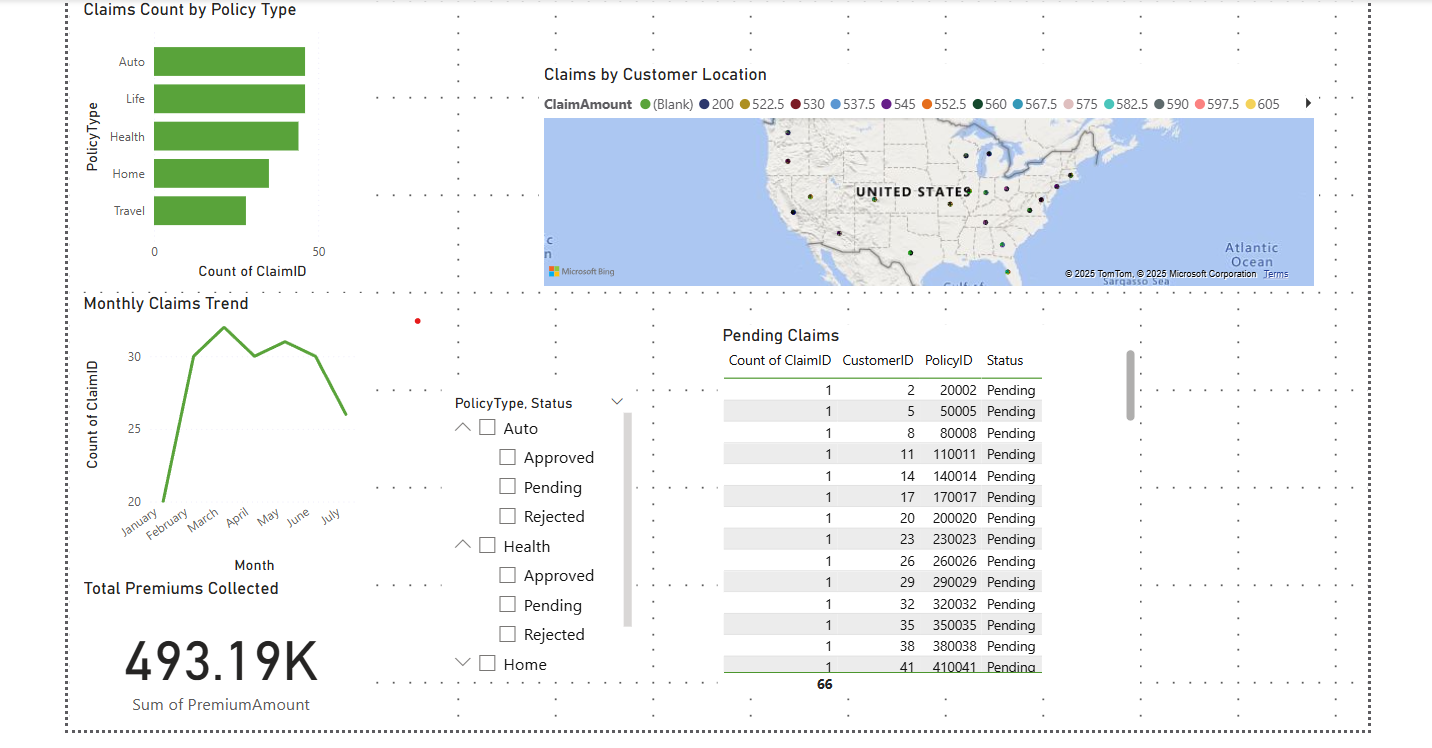

The page's visual inventory and layout, read from the dashboard file:
{"tool":"powerbi","page":{"name":"Page 1","canvas":[1280,720],"ordinal":0},"visuals":[{"type":"clusteredBarChart","title":"Claims Count by Policy Type","fields":{"Category":["Policies.PolicyType"],"Y":["CountNonNull(Claims.ClaimID)"]},"box":[10,0,280,280],"z":0},{"type":"lineChart","title":"Monthly Claims Trend","fields":{"Y":["CountNonNull(Claims.ClaimID)"],"Category":["Claims.ClaimsDate.Variation.Date Hierarchy.Month"]},"box":[10,290,280,280],"z":1000},{"type":"map","title":"Claims by Customer Location","fields":{"Category":["Customers.Location"],"Series":["Claims.ClaimAmount"]},"box":[464,64,768,224],"z":2000},{"type":"card","title":"Total Premiums Collected","fields":{"Values":["Sum(Policies.PremiumAmount)"]},"box":[10,570,280,150],"z":3000},{"type":"tableEx","title":"Pending Claims","fields":{"Values":["CountNonNull(Claims.ClaimID)","Claims.CustomerID","Claims.PolicyID","Claims.Status"]},"box":[640,320,416,368],"z":4000},{"type":"slicer","fields":{"Values":["Policies.PolicyType","Claims.Status"]},"box":[368,384,192,288],"z":4001}]}

Visuals, with their boxes on the page's 1280x720 design canvas (x1, y1, x2, y2). These are canvas units, not pixel positions in the 1432x748 screenshot, which may show the page scaled, cropped or inside an application window:
"Claims Count by Policy Type" clusteredBarChart: pyautogui.locateOnScreen(10, 0, 290, 280)
"Monthly Claims Trend" lineChart: pyautogui.locateOnScreen(10, 290, 290, 570)
"Claims by Customer Location" map: pyautogui.locateOnScreen(464, 64, 1232, 288)
"Total Premiums Collected" card: pyautogui.locateOnScreen(10, 570, 290, 720)
"Pending Claims" tableEx: pyautogui.locateOnScreen(640, 320, 1056, 688)
slicer - Policies.PolicyType x Claims.Status: pyautogui.locateOnScreen(368, 384, 560, 672)
